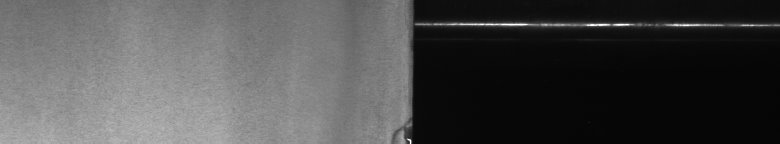hb: (387, 122, 400, 136)
